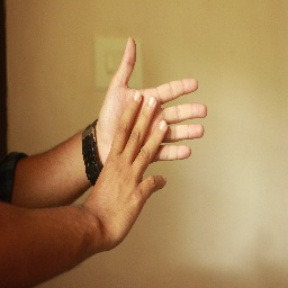M: (90, 35, 211, 218)
